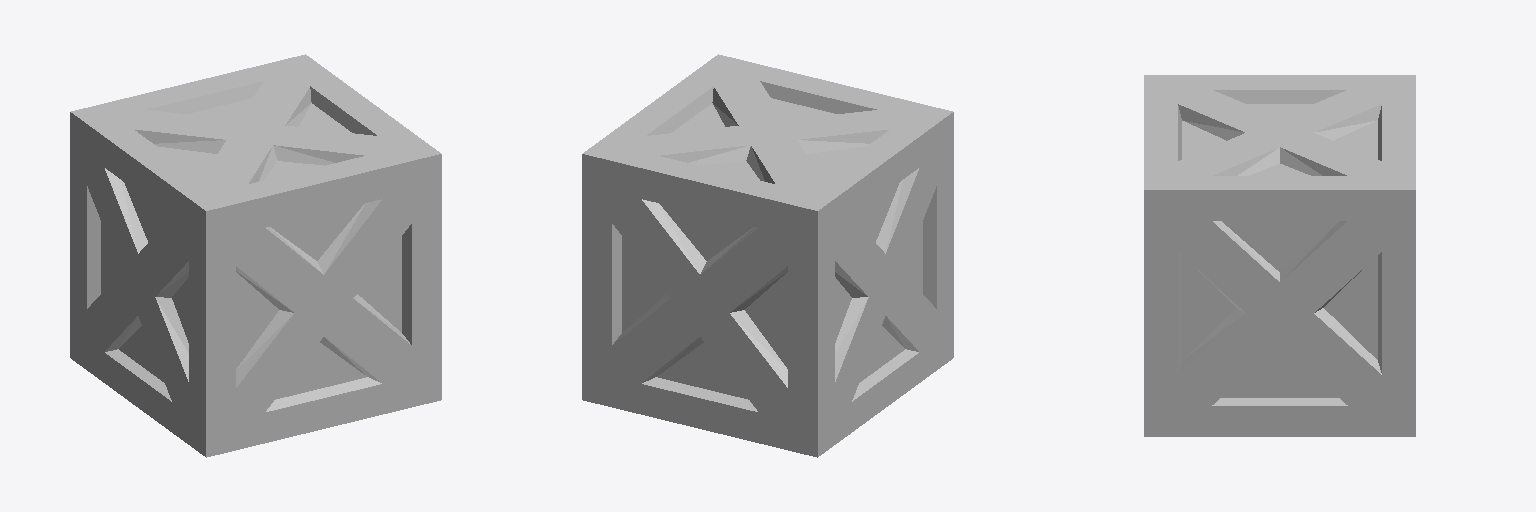
File: crate.obj
The picture shows the model from 3 angles: view 1: azimuth 30°, elevation 25°; view 2: azimuth 150°, elevation 25°; view 3: azimuth 270°, elevation 25°; orthographic projection.
Visible parts, largest first — view 1: Cube.001; view 2: Cube.001; view 3: Cube.001.
Boxes of the visible parts, box(x1,y1,x2,y2) form: Cube.001: box(70, 54, 441, 457); Cube.001: box(582, 54, 953, 457); Cube.001: box(1144, 75, 1415, 436).
Size of the model in its own units: 9 by 9 by 9.